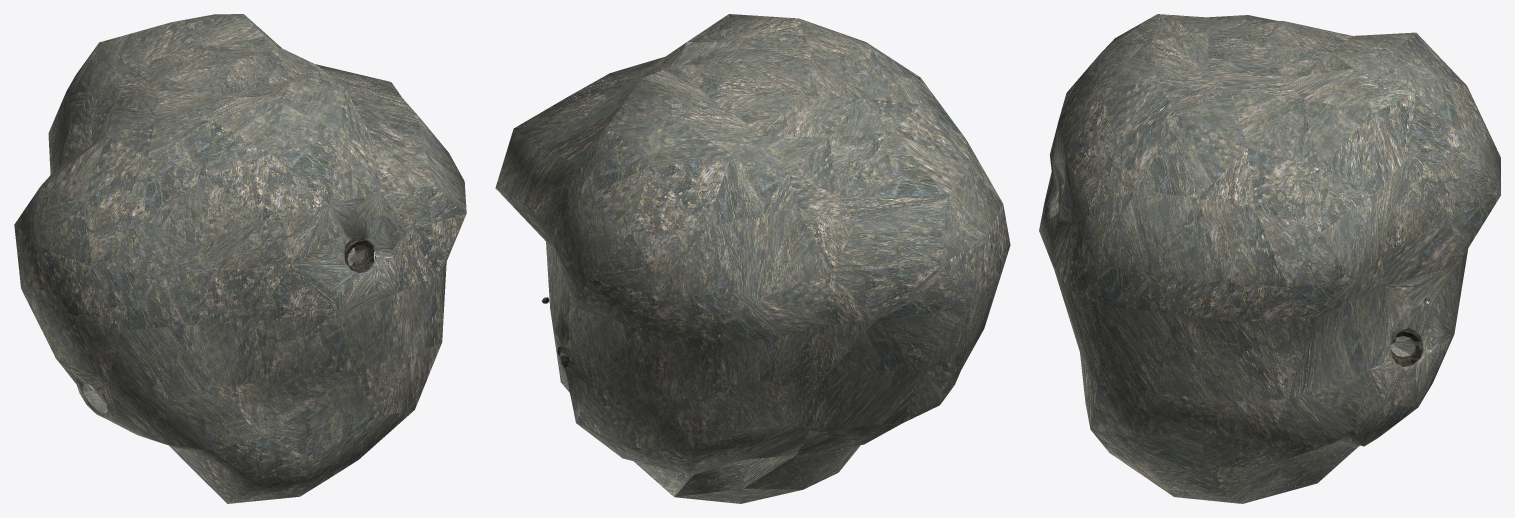
Rendered from CO_BASE_ROCK_LARGE01.fbx.
3 views of the same model, side by side, from view 1: azimuth 30°, elevation 25°; view 2: azimuth 150°, elevation 25°; view 3: azimuth 270°, elevation 25° (orthographic). The views are drawn at different scales.
Visible parts, largest first — view 1: CO_BASE_ROCK_LARGE01_ms3d_mo; view 2: CO_BASE_ROCK_LARGE01_ms3d_mo; view 3: CO_BASE_ROCK_LARGE01_ms3d_mo.
Part boxes in pixels (x1,y1,x2,y2): CO_BASE_ROCK_LARGE01_ms3d_mo: (14, 14, 466, 503); CO_BASE_ROCK_LARGE01_ms3d_mo: (495, 14, 1010, 503); CO_BASE_ROCK_LARGE01_ms3d_mo: (1039, 14, 1500, 503).
Size of the model in its own units: 459440 by 446238 by 420610.
